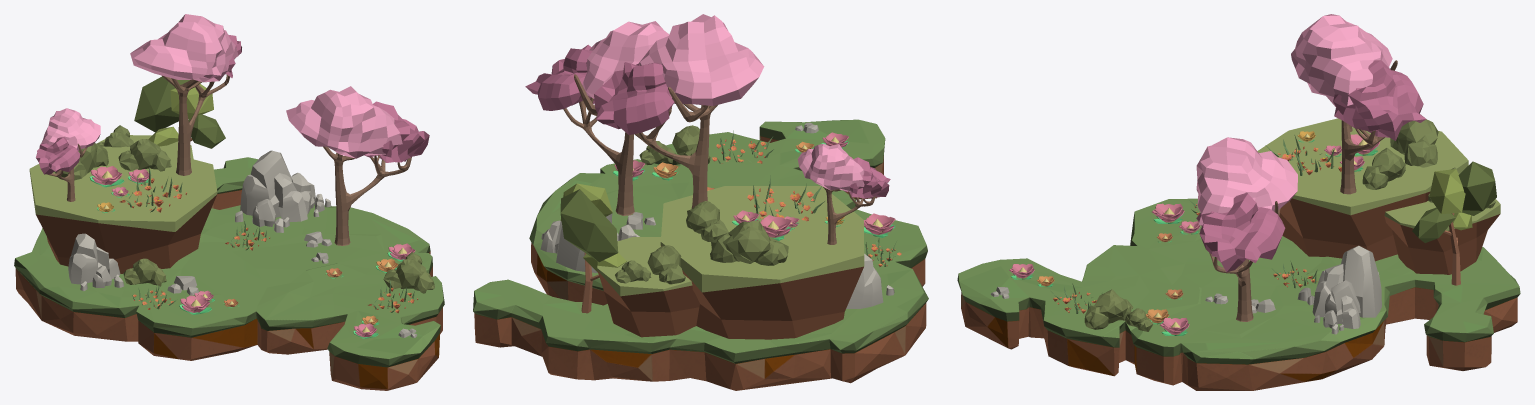
File: flower-island.glb
3 renders of one model, left to right at view 1: azimuth 30°, elevation 25°; view 2: azimuth 150°, elevation 25°; view 3: azimuth 270°, elevation 25°, orthographic. The views are drawn at different scales.
Parts seen in each view (by area): view 1: floating_island_1.1_1, Island01_Cylinder, CommonTree_Autumn_2, CommonTree_Autumn_2.002, Resource_Rock_1.001, tree01, CommonTree_Autumn_2.001, Resource_Rock_1, Node.005, Node.001, Node, Node.006 (+7 smaller); view 2: floating_island_1.1_1, Island01_Cylinder, CommonTree_Autumn_2.002, CommonTree_Autumn_2, Island01_Cylinder.001, tree01, CommonTree_Autumn_2.001, Node.006, Resource_Rock_1, Node.005, Node.003, Resource_Rock_1.001 (+8 smaller); view 3: floating_island_1.1_1, Island01_Cylinder, CommonTree_Autumn_2.002, CommonTree_Autumn_2, tree01, Island01_Cylinder.001, Resource_Rock_1.001, Node.006, Resource_Rock_1.002, Node.001, Node.005, group810910811.002 (+1 smaller).
Boxes of the visible parts, <box> form: floating_island_1.1_1: <box>14,157,444,390</box>; Island01_Cylinder: <box>29,146,217,273</box>; CommonTree_Autumn_2: <box>286,86,429,245</box>; CommonTree_Autumn_2.002: <box>130,14,241,175</box>; Resource_Rock_1.001: <box>235,150,307,232</box>; tree01: <box>134,76,225,148</box>; CommonTree_Autumn_2.001: <box>36,108,100,201</box>; Resource_Rock_1: <box>68,233,123,291</box>; Node.005: <box>118,139,171,171</box>; Node.001: <box>383,259,434,293</box>; Node: <box>123,258,166,286</box>; Node.006: <box>54,143,108,180</box>; floating_island_1.1_1: <box>473,119,928,390</box>; Island01_Cylinder: <box>660,186,864,339</box>; CommonTree_Autumn_2.002: <box>594,14,764,208</box>; CommonTree_Autumn_2: <box>525,21,669,215</box>; Island01_Cylinder.001: <box>597,237,699,337</box>; tree01: <box>560,183,626,313</box>; CommonTree_Autumn_2.001: <box>797,143,890,244</box>; Node.006: <box>710,220,788,265</box>; Resource_Rock_1: <box>846,253,894,308</box>; Node.005: <box>686,201,728,241</box>; Node.003: <box>647,245,685,284</box>; Resource_Rock_1.001: <box>556,213,639,272</box>; floating_island_1.1_1: <box>957,198,1520,390</box>; Island01_Cylinder: <box>1257,118,1468,261</box>; CommonTree_Autumn_2.002: <box>1291,14,1426,194</box>; CommonTree_Autumn_2: <box>1196,137,1297,321</box>; tree01: <box>1412,161,1496,285</box>; Island01_Cylinder.001: <box>1384,199,1500,274</box>; Resource_Rock_1.001: <box>1297,245,1381,317</box>; Node.006: <box>1390,119,1438,167</box>; Resource_Rock_1.002: <box>1314,280,1360,334</box>; Node.001: <box>1084,289,1133,329</box>; Node.005: <box>1362,148,1406,189</box>; group810910811.002: <box>1265,135,1341,175</box>.
Size of the model in its own units: 4.58 by 3.22 by 5.8.
19 materials, 2 textured.
